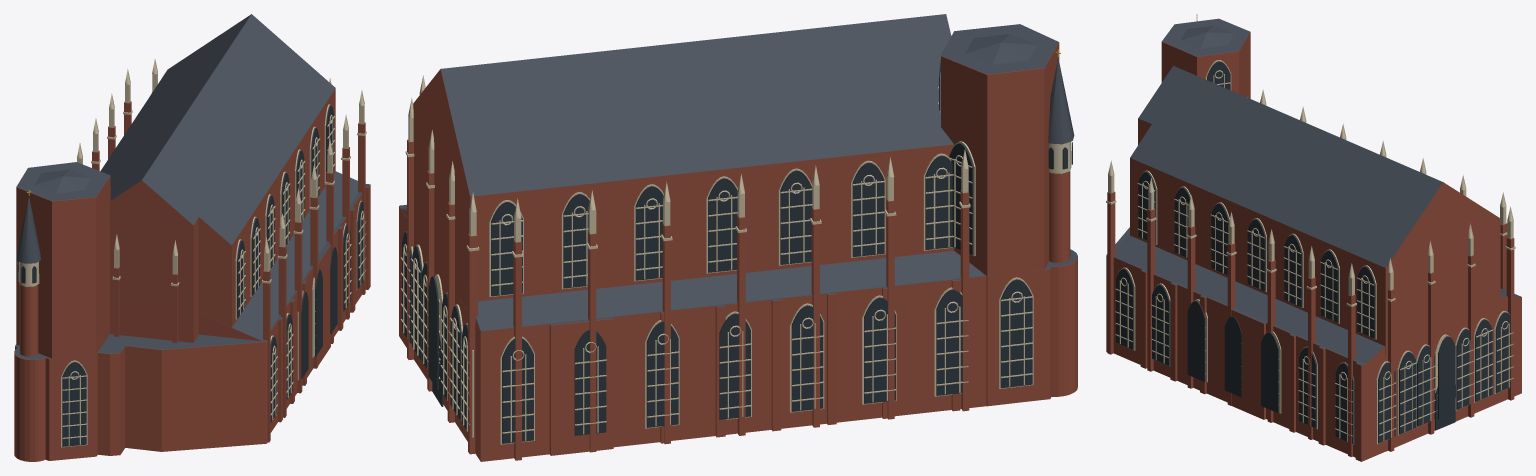
Rendered from dominicuskerk.glb.
The picture shows the model from 3 angles, left to right: view 1: azimuth 30°, elevation 25°; view 2: azimuth 150°, elevation 25°; view 3: azimuth 270°, elevation 25°; orthographic projection. The views are drawn at different scales.
Visible parts, largest first — view 1: dominicuskerk; view 2: dominicuskerk; view 3: dominicuskerk.
Boxes of the visible parts, x1,y1,x2,y2 form: dominicuskerk: [14, 14, 370, 461]; dominicuskerk: [399, 14, 1077, 461]; dominicuskerk: [1106, 14, 1521, 461].
Bounding box in the file's own units: 49.88 × 28.6 × 43.07.
